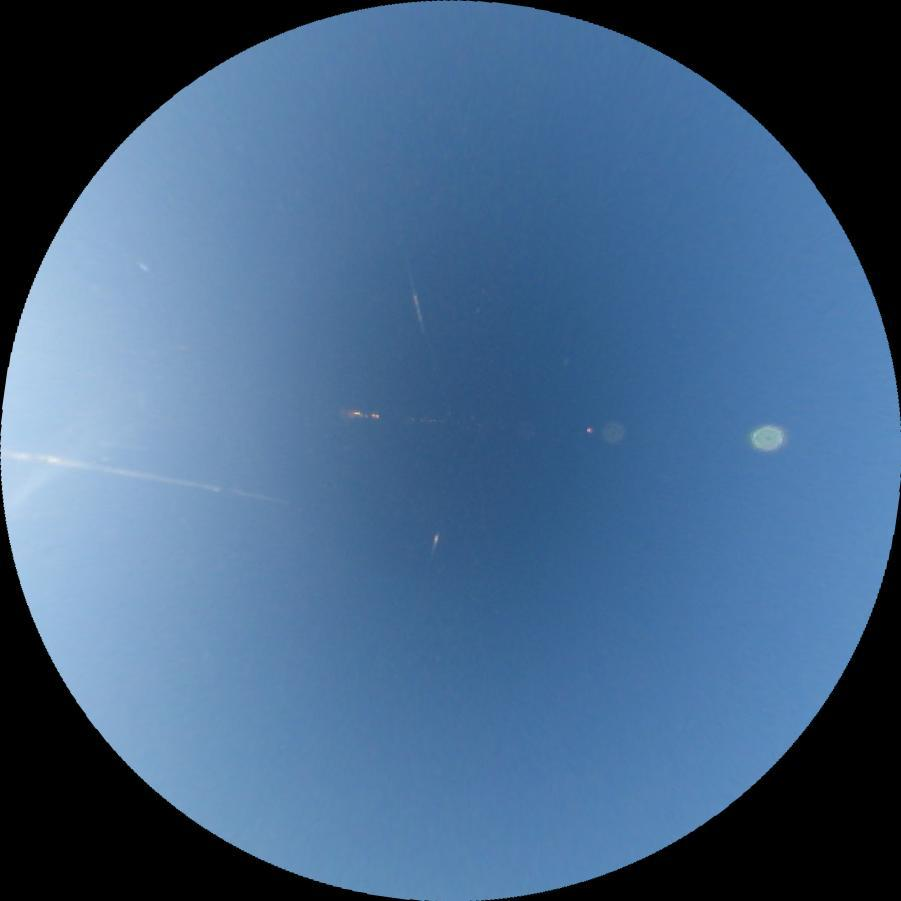parasite: (409, 279, 427, 340), (425, 526, 444, 562)
